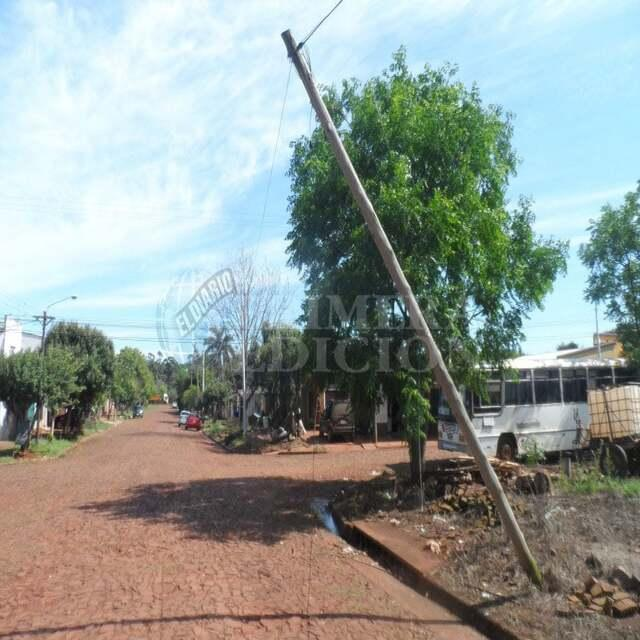Inclined Pole: (273, 27, 543, 585)
